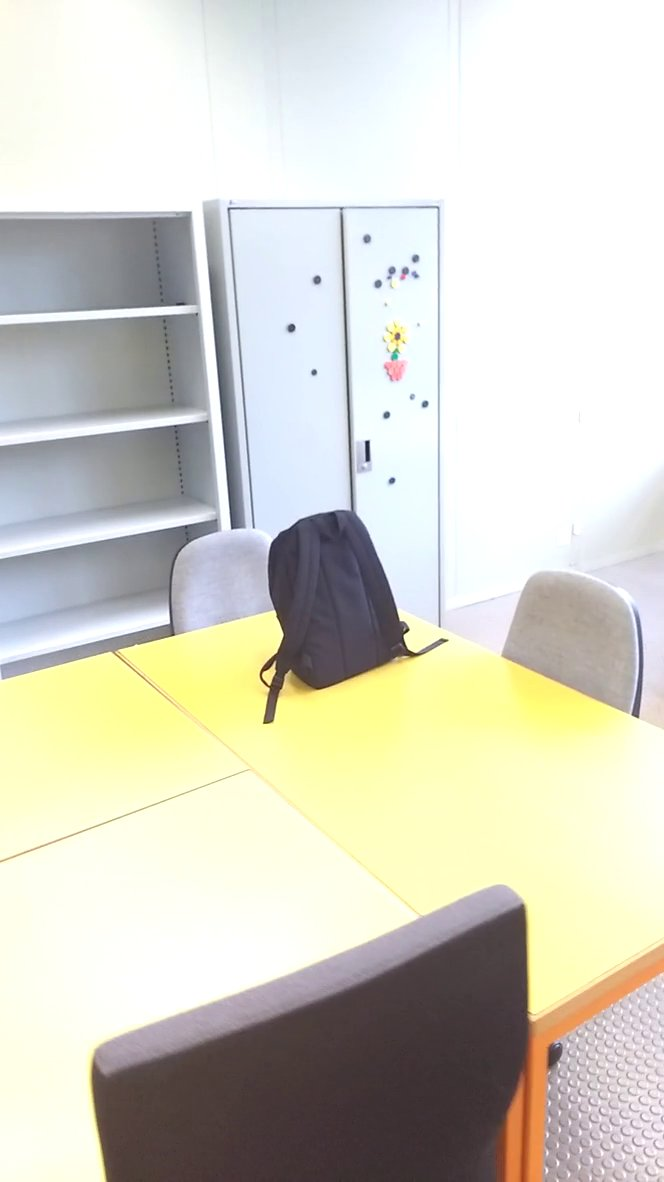bag: (258, 500, 458, 745)
chair: (36, 864, 606, 1182), (470, 551, 664, 745), (154, 508, 316, 645)
